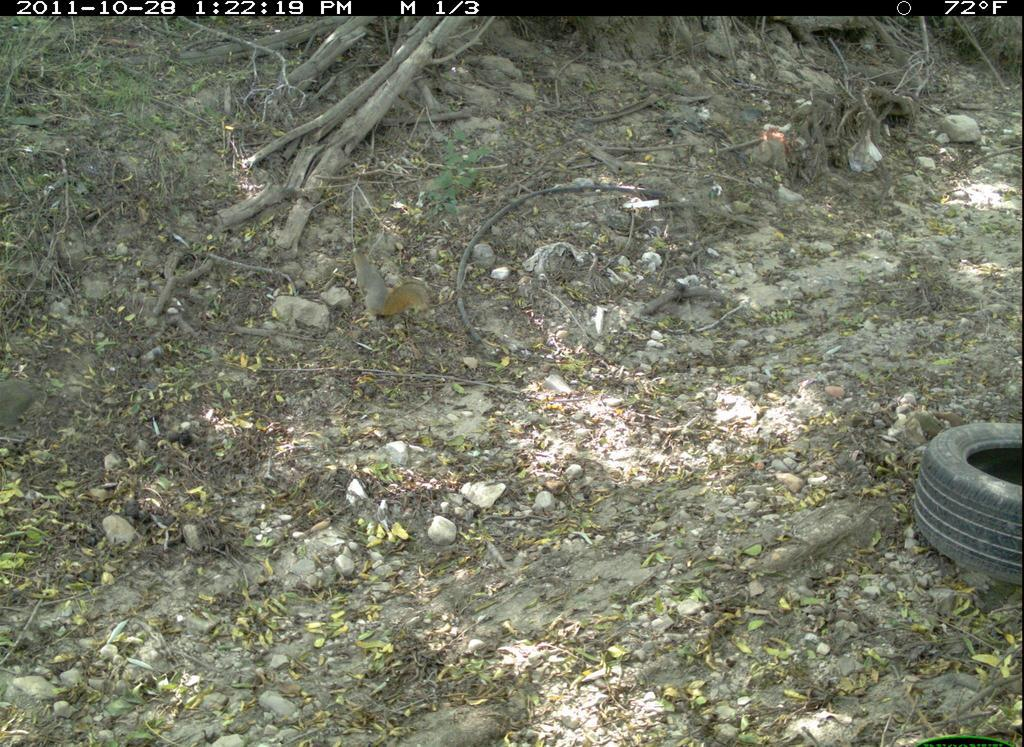squirrel: (341, 244, 441, 329)
